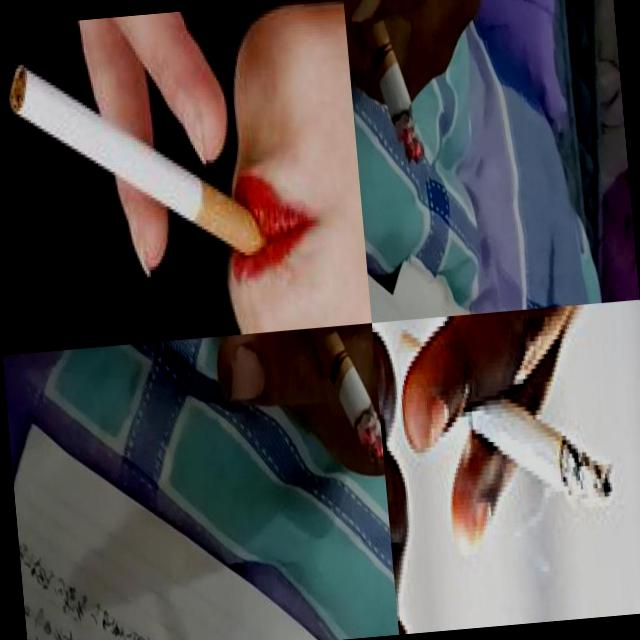cigarette: (4, 41, 272, 280), (396, 310, 616, 524), (342, 0, 426, 167), (292, 324, 384, 473)
